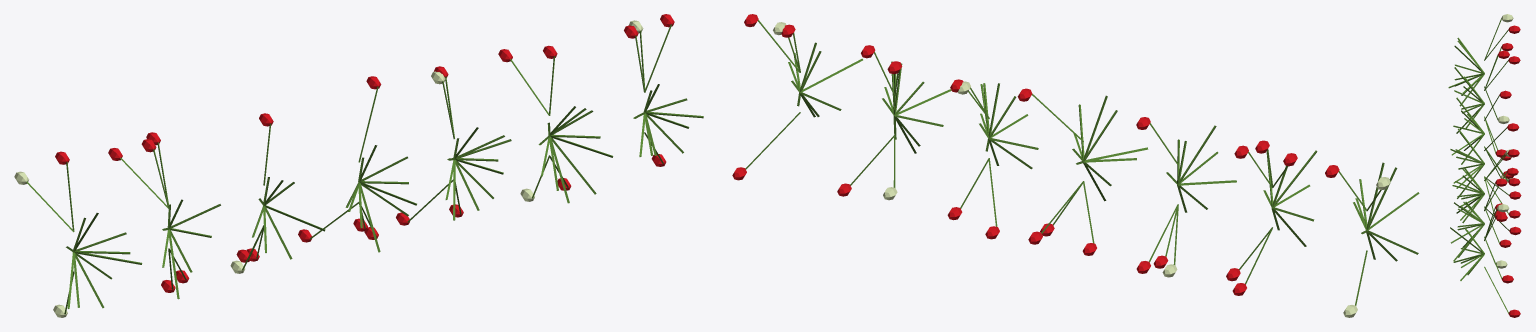
Rendered from r30c0_rest.obj.
3 views of the same model, side by side, from view 1: azimuth 30°, elevation 25°; view 2: azimuth 150°, elevation 25°; view 3: azimuth 270°, elevation 25° (orthographic). The views are drawn at different scales.
Parts seen in each view (by area): view 1: r30c0_rest; view 2: r30c0_rest; view 3: r30c0_rest.
Boxes of the visible parts, left/top/right/bottom form: r30c0_rest: left=14, top=14, right=703, bottom=317; r30c0_rest: left=732, top=14, right=1419, bottom=317; r30c0_rest: left=1448, top=14, right=1521, bottom=317.
Bounding box in the file's own units: 1.72 × 0.3982 × 0.2571.
